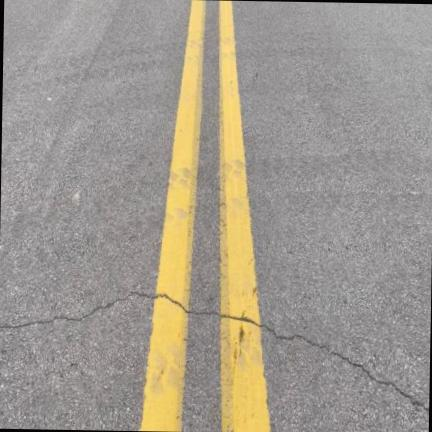Road: (0, 0, 227, 431)
